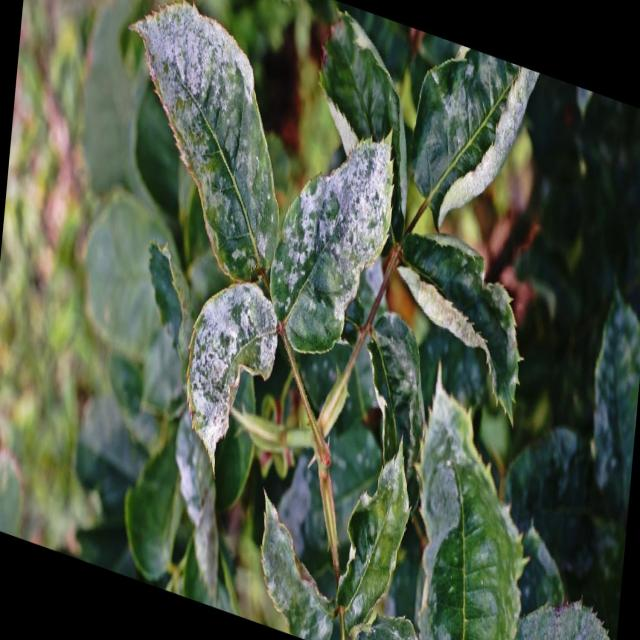Powdery Mildew: (185, 133, 394, 478), (127, 1, 279, 282), (269, 134, 394, 353), (436, 62, 540, 230)
